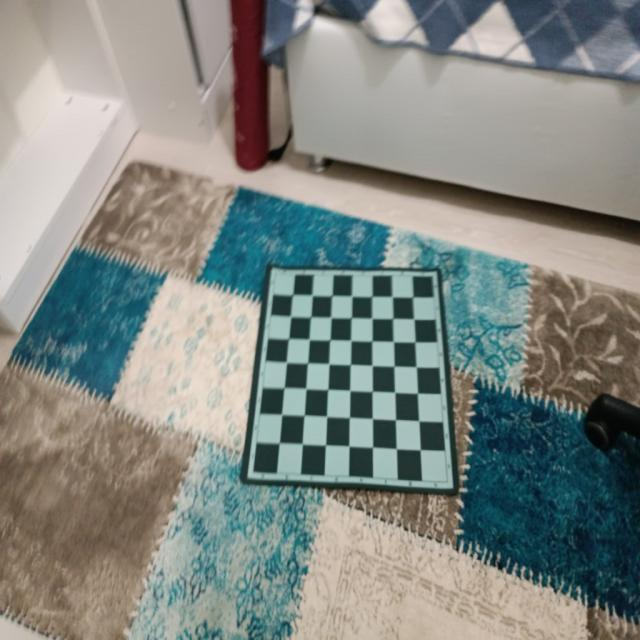corner: (270, 266, 283, 282), (248, 463, 260, 478), (442, 474, 452, 488), (426, 270, 436, 284)
